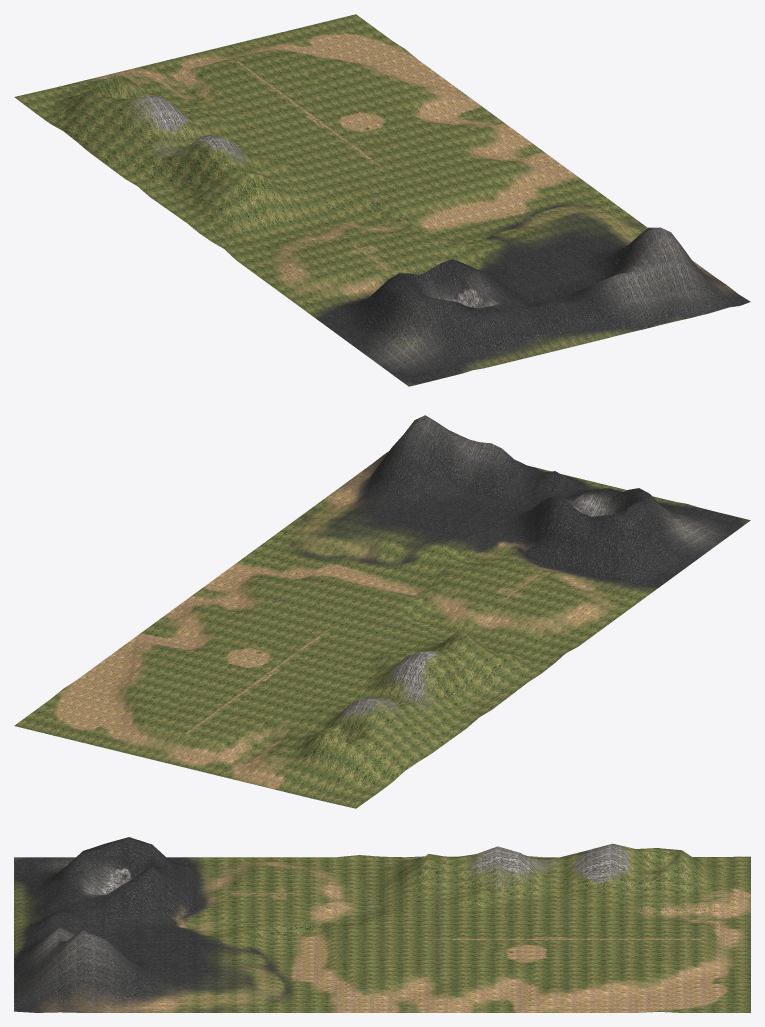
The picture shows the model from 3 angles, top to bottom: view 1: azimuth 30°, elevation 25°; view 2: azimuth 150°, elevation 25°; view 3: azimuth 270°, elevation 25°; orthographic projection. The views are drawn at different scales.
Parts seen in each view (by area): view 1: Mesh; view 2: Mesh; view 3: Mesh.
Part boxes in pixels (x1,y1,x2,y2): Mesh: (14, 14, 750, 386); Mesh: (14, 415, 750, 808); Mesh: (14, 837, 750, 1012).
Bounding box in the file's own units: 2500 × 431 × 5000.
Materials: 1 (1 with a texture image).
